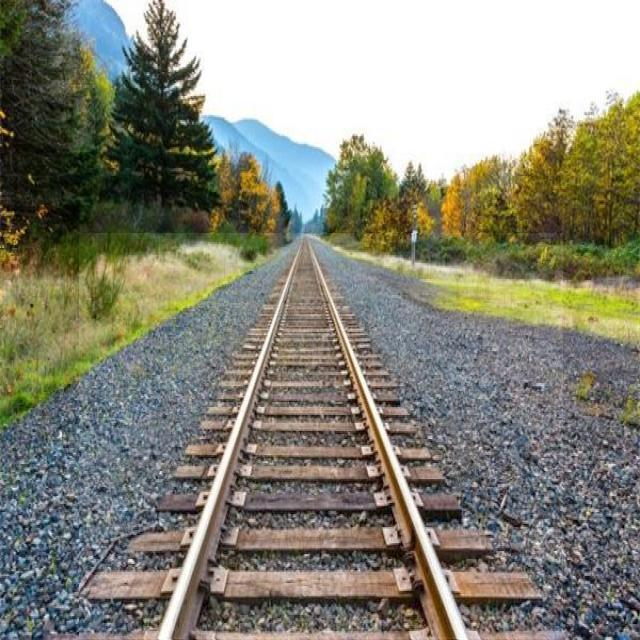rail: (81, 234, 564, 640)
